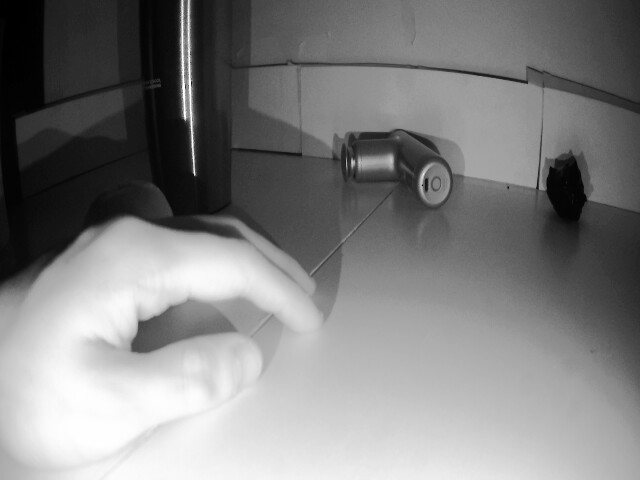silver: (543, 157, 590, 211)
